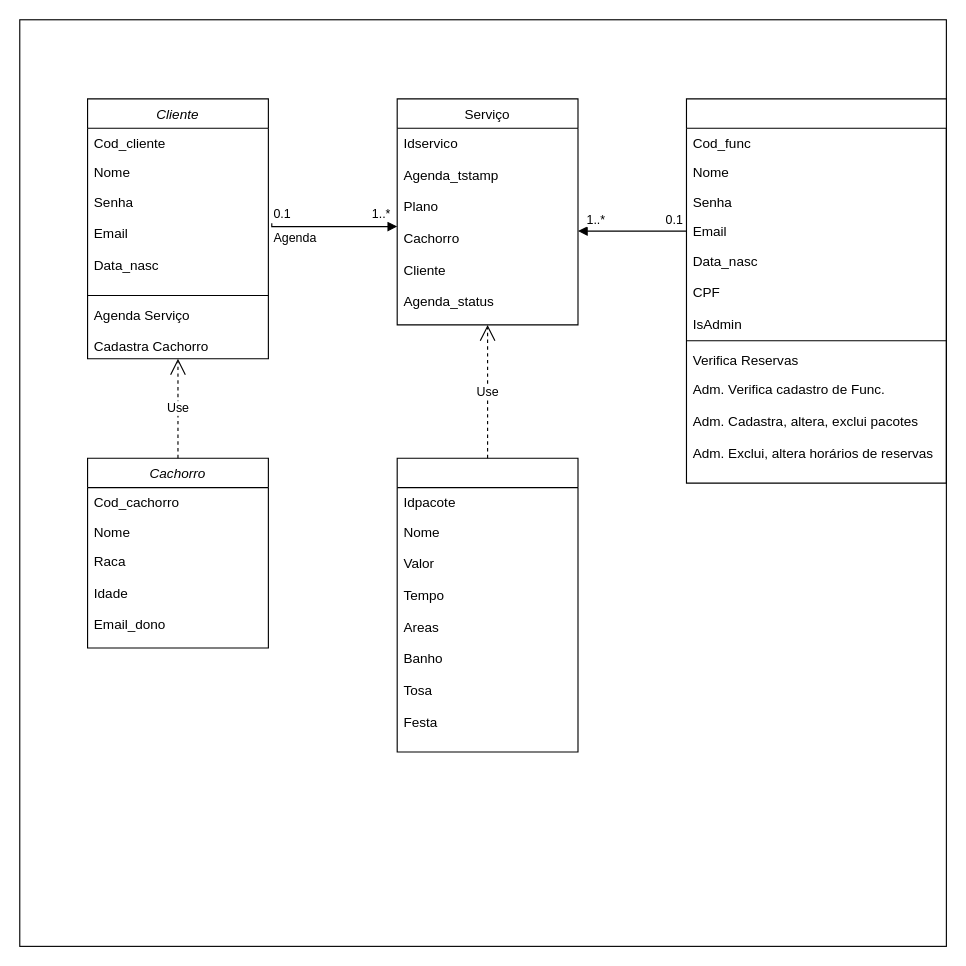
Some shapes in this 966 by 966 pixel diagram are drawn without their labels. The shapes that lost their labels are listed below. From the top down, each one's box as (x1, y1, x2, y2) in pixels, then its label:
(685, 98, 946, 483): Funcionário
(396, 457, 578, 752): Pacotes
